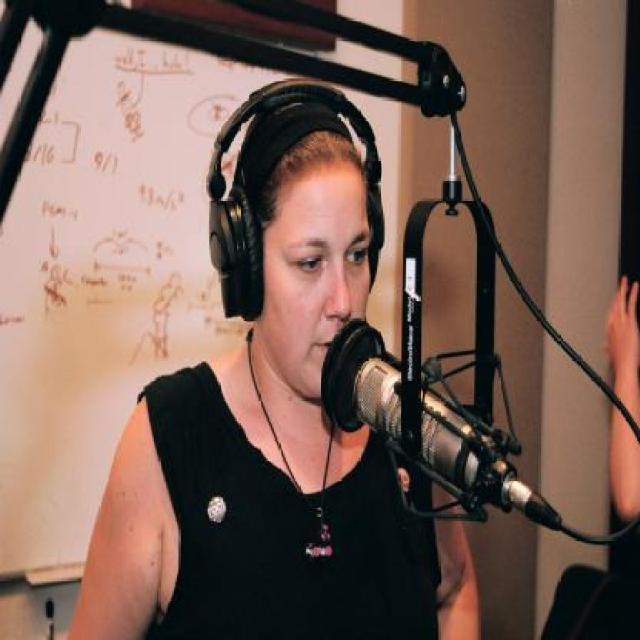earphone: (193, 87, 352, 330)
